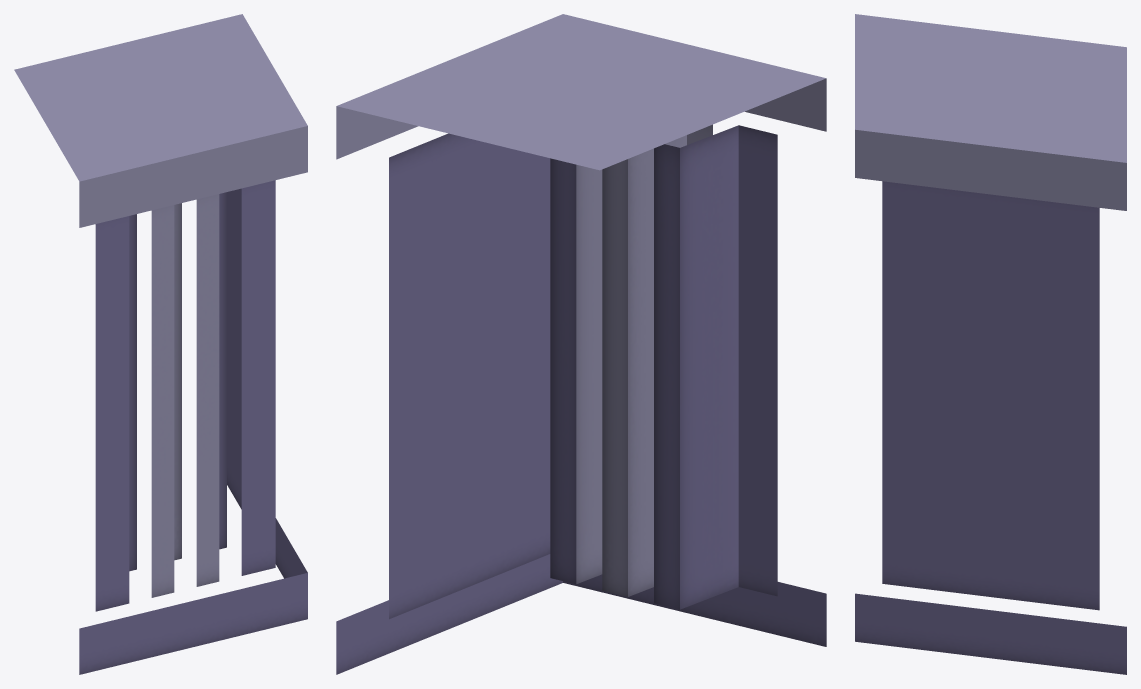
File: Field_Type_02_Pillar_02.FBX
3 views of the same model, side by side, from view 1: azimuth 30°, elevation 25°; view 2: azimuth 150°, elevation 25°; view 3: azimuth 270°, elevation 25° (orthographic). The views are drawn at different scales.
Parts seen in each view (by area): view 1: Field_Type_02_Pillar_02; view 2: Field_Type_02_Pillar_02; view 3: Field_Type_02_Pillar_02.
Part boxes in pixels (x1,y1,x2,y2): Field_Type_02_Pillar_02: [14, 14, 307, 674]; Field_Type_02_Pillar_02: [336, 14, 826, 674]; Field_Type_02_Pillar_02: [855, 14, 1126, 674].
Size of the model in its own units: 10.44 by 16.73 by 8.05.
